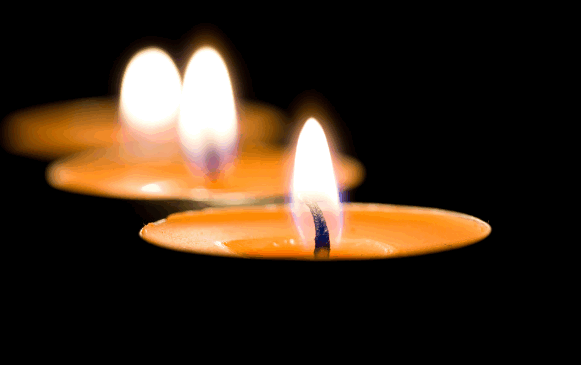Fire: (284, 114, 372, 251)
